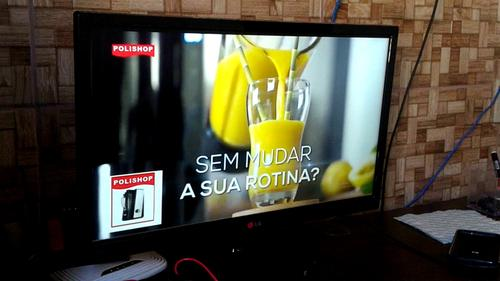Polishop #1: (105, 168, 163, 232)
